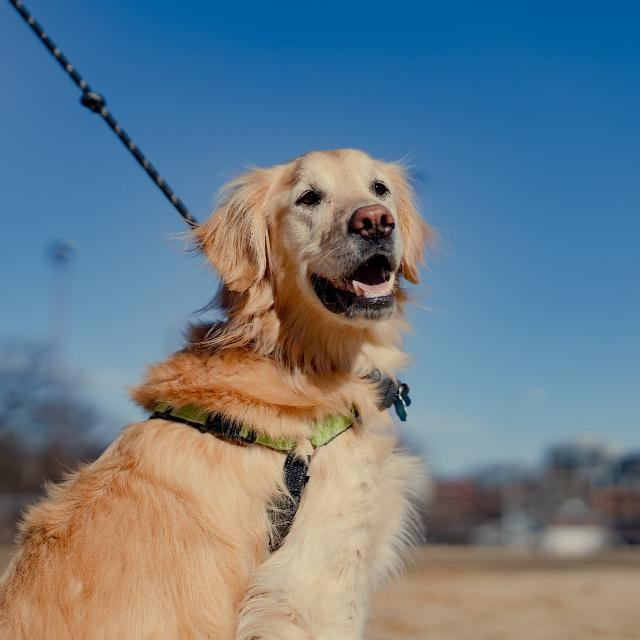dog: (82, 112, 432, 640)
